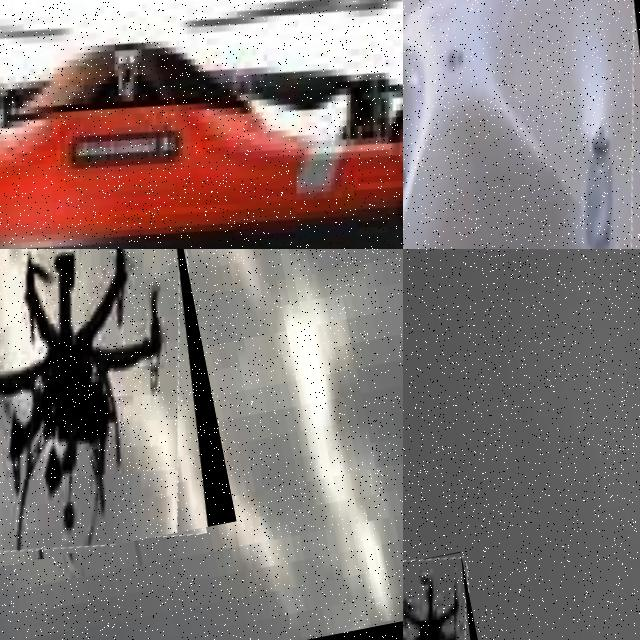0: (0, 249, 237, 567), (403, 551, 488, 640)
drone: (0, 0, 403, 249), (403, 0, 640, 249)
